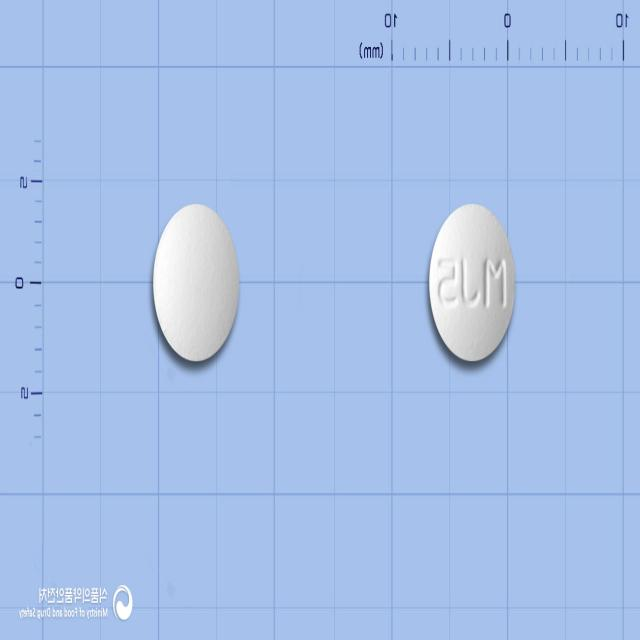Clabio - 500mg: (152, 200, 240, 362), (429, 202, 517, 362)
